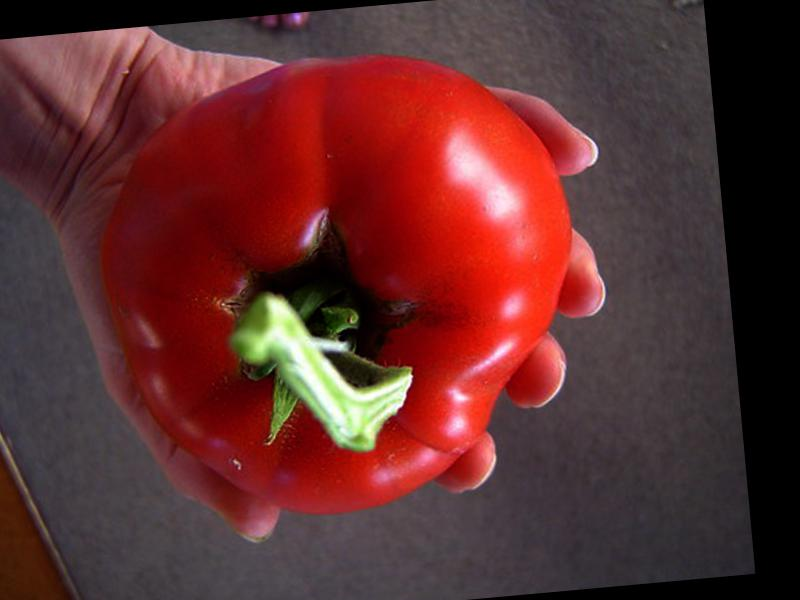Tomato: (86, 38, 594, 533)
